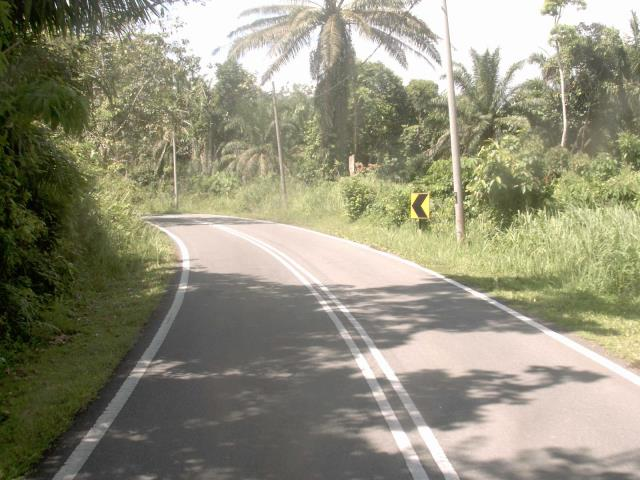traffic_sign: (404, 185, 434, 227)
